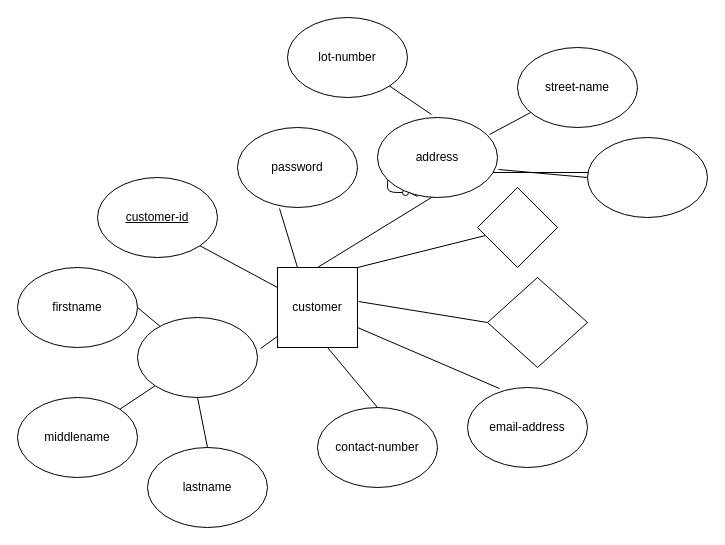
Some shapes in this 725 by 545 pixel diagram are drawn without their labels. The shapes that lost their labels are listed below. From the top down, each one's centre as x and y in pixels, then its label:
At (x=647, y=177): "community".
At (x=517, y=227): "queries (for account)".
At (x=537, y=322): "lodges (for complaints)".
At (x=197, y=357): "name".
